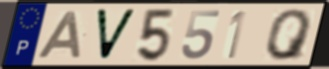1: (227, 10, 248, 60)
5: (134, 7, 176, 64), (179, 9, 222, 61)
A: (34, 10, 83, 60)
Q: (265, 7, 315, 62)
V: (93, 7, 139, 62)
